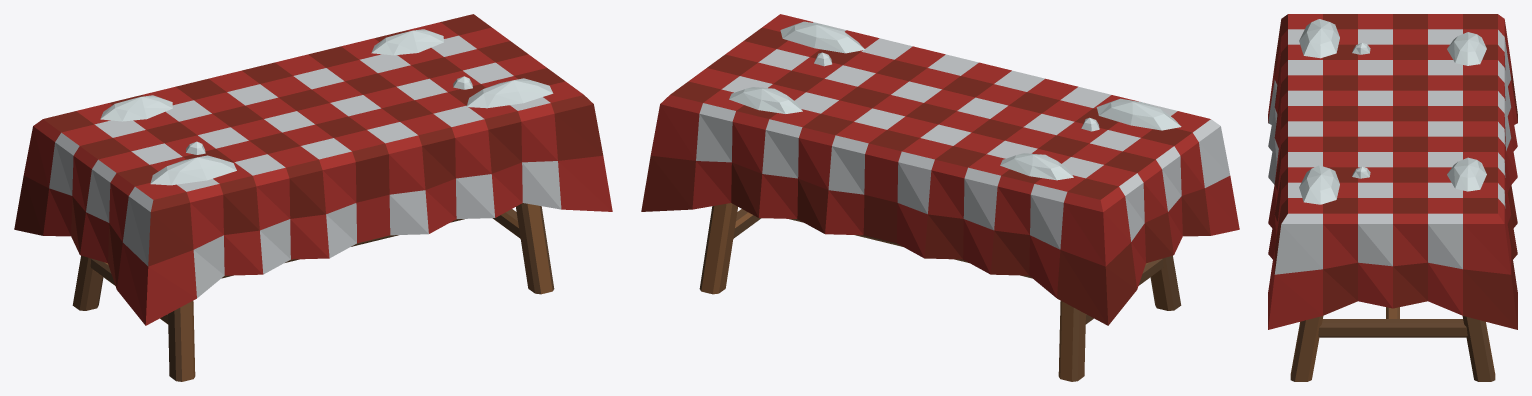
Rendered from north-pole-treat-table-91a6e4.glb.
3 views of the same model, side by side, from view 1: azimuth 30°, elevation 25°; view 2: azimuth 150°, elevation 25°; view 3: azimuth 270°, elevation 25° (orthographic). The views are drawn at different scales.
Visible parts, largest first — view 1: treat-table; view 2: treat-table; view 3: treat-table.
Boxes of the visible parts, box(x1,y1,x2,y2) form: treat-table: box(14, 14, 612, 381); treat-table: box(641, 14, 1239, 381); treat-table: box(1268, 14, 1517, 381).
Bounding box in the file's own units: 1.95 × 0.8194 × 0.952.
